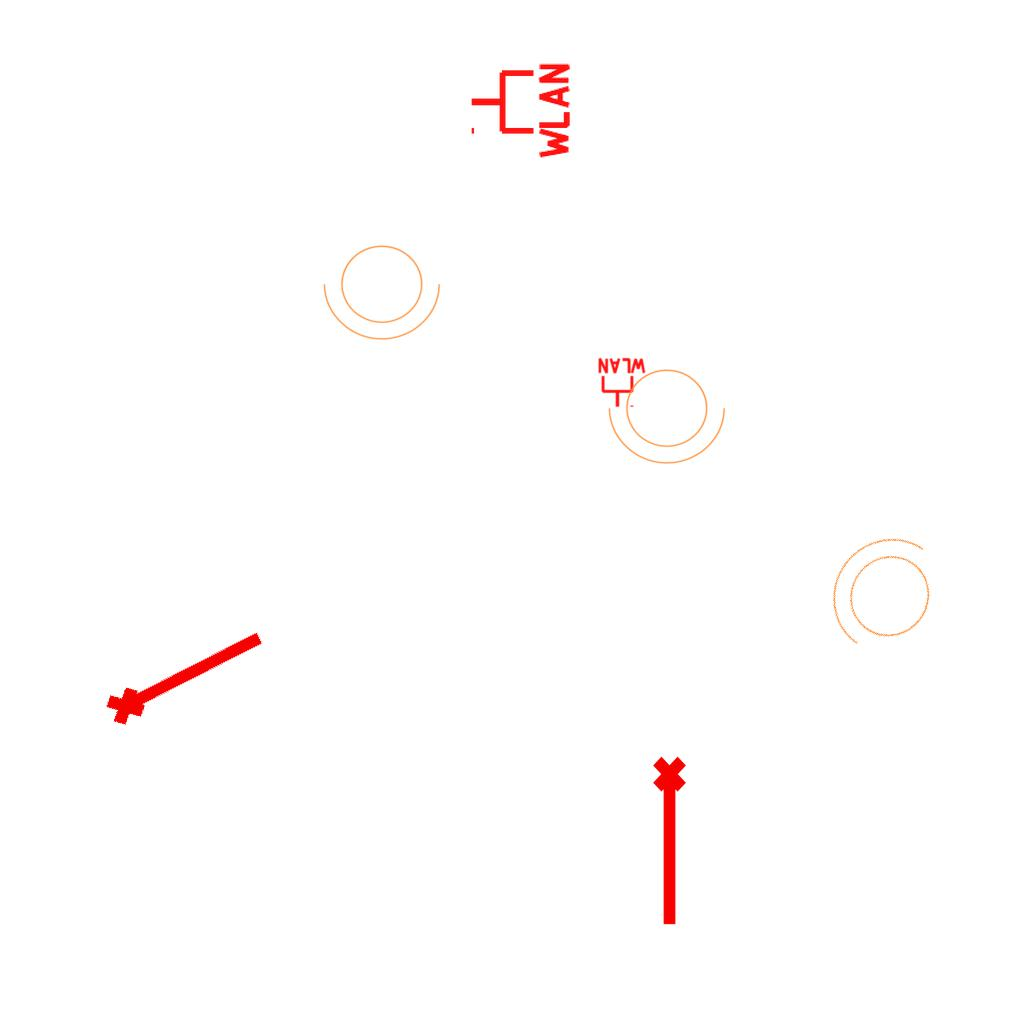ASR_Ansaugoeffnung: (96, 612, 274, 734), (649, 754, 695, 930)
Scheinwerfer_fuer_Alarmbeleuchtung: (800, 509, 968, 683), (319, 233, 451, 345), (604, 357, 736, 469)
WLAN: (467, 59, 572, 163), (596, 357, 648, 409)
